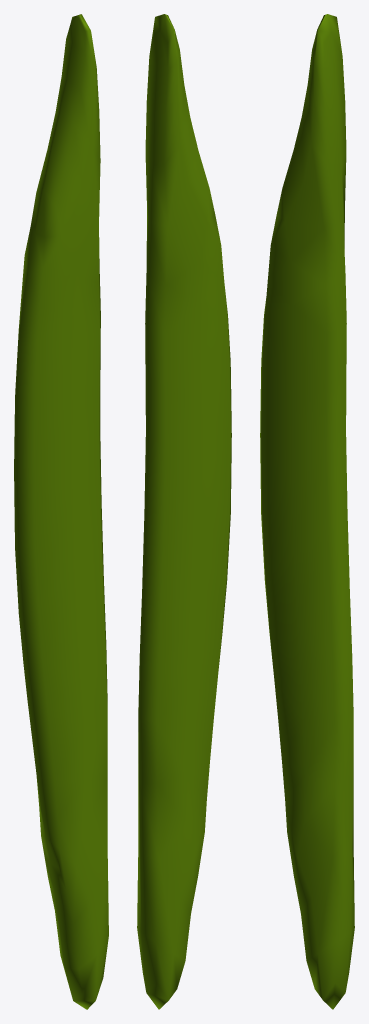
Rendered from leaf.fbx.
The picture shows the model from 3 angles, left to right: view 1: azimuth 30°, elevation 25°; view 2: azimuth 210°, elevation 25°; view 3: azimuth 330°, elevation 25°; orthographic projection.
Parts seen in each view (by area): view 1: polySurface1; view 2: polySurface1; view 3: polySurface1.
Part boxes in pixels (x1=…): polySurface1: x1=14, y1=14, x2=108, y2=1009; polySurface1: x1=137, y1=14, x2=231, y2=1009; polySurface1: x1=260, y1=14, x2=354, y2=1009.
Size of the model in its own units: 0.2163 by 2.2 by 0.1.
